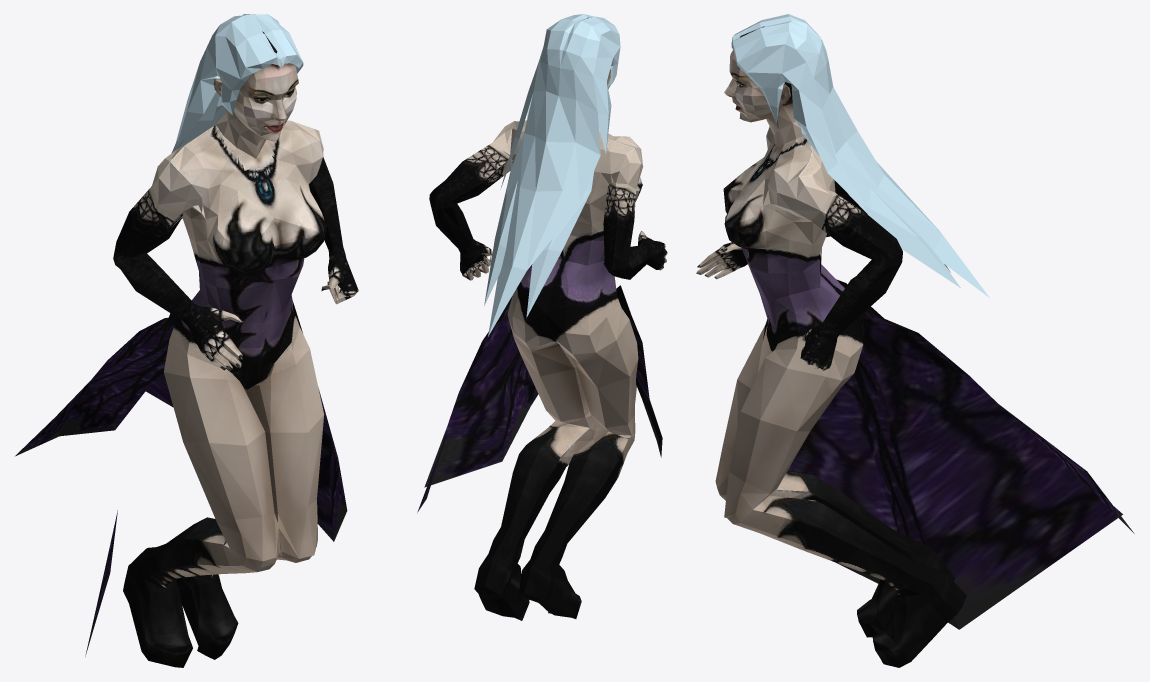
The model's file is running_011.obj.
The picture shows the model from 3 angles, left to right: view 1: azimuth 30°, elevation 25°; view 2: azimuth 150°, elevation 25°; view 3: azimuth 270°, elevation 25°; orthographic projection. The views are drawn at different scales.
Visible parts, largest first — view 1: Plane.001_Plane.007, Plane.003_Plane.008, capelli.001_Plane.006; view 2: Plane.001_Plane.007, capelli.001_Plane.006, Plane.003_Plane.008; view 3: Plane.001_Plane.007, Plane.003_Plane.008, capelli.001_Plane.006.
Part boxes in pixels (x1,y1,x2,y2): Plane.001_Plane.007: (113, 31, 358, 667); Plane.003_Plane.008: (15, 301, 347, 656); capelli.001_Plane.006: (171, 14, 303, 218); Plane.001_Plane.007: (429, 17, 667, 620); capelli.001_Plane.006: (484, 14, 620, 336); Plane.003_Plane.008: (417, 285, 662, 512); Plane.001_Plane.007: (696, 26, 966, 667); Plane.003_Plane.008: (763, 279, 1134, 629); capelli.001_Plane.006: (731, 14, 989, 297).
Bounding box in the file's own units: 1.72 × 5.04 × 3.12.
